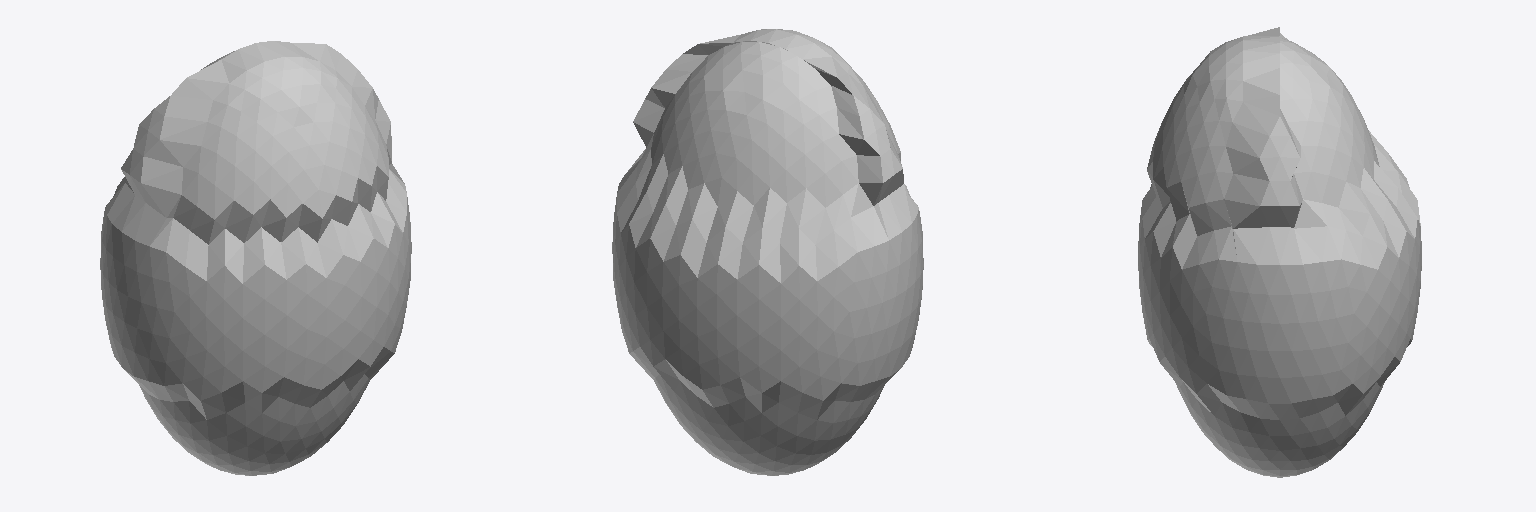
Rendered from athletic_after.obj.
3 views of the same model, side by side, from view 1: azimuth 30°, elevation 25°; view 2: azimuth 150°, elevation 25°; view 3: azimuth 270°, elevation 25° (orthographic).
Size of the model in its own units: 1.17 by 1.72 by 1.04.